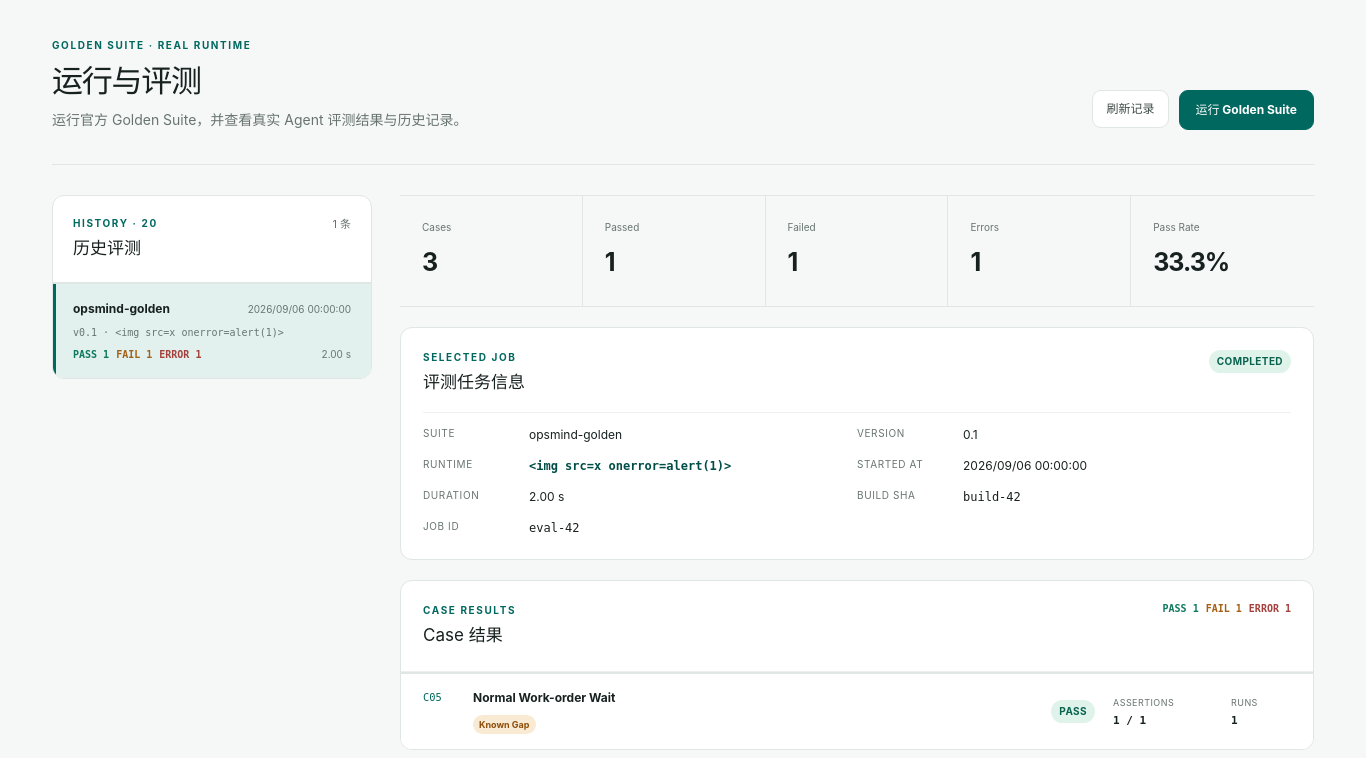
EvaluationPage › renders untrusted result text as text, not executable markup
Check: the text "<img src=x onerror=alert(1)>" is shown, box 529,459 -> 731,473
Click the button that starts with "C05" at coordinates (544, 697), box 401,673 -> 1313,749
(page scrolled)
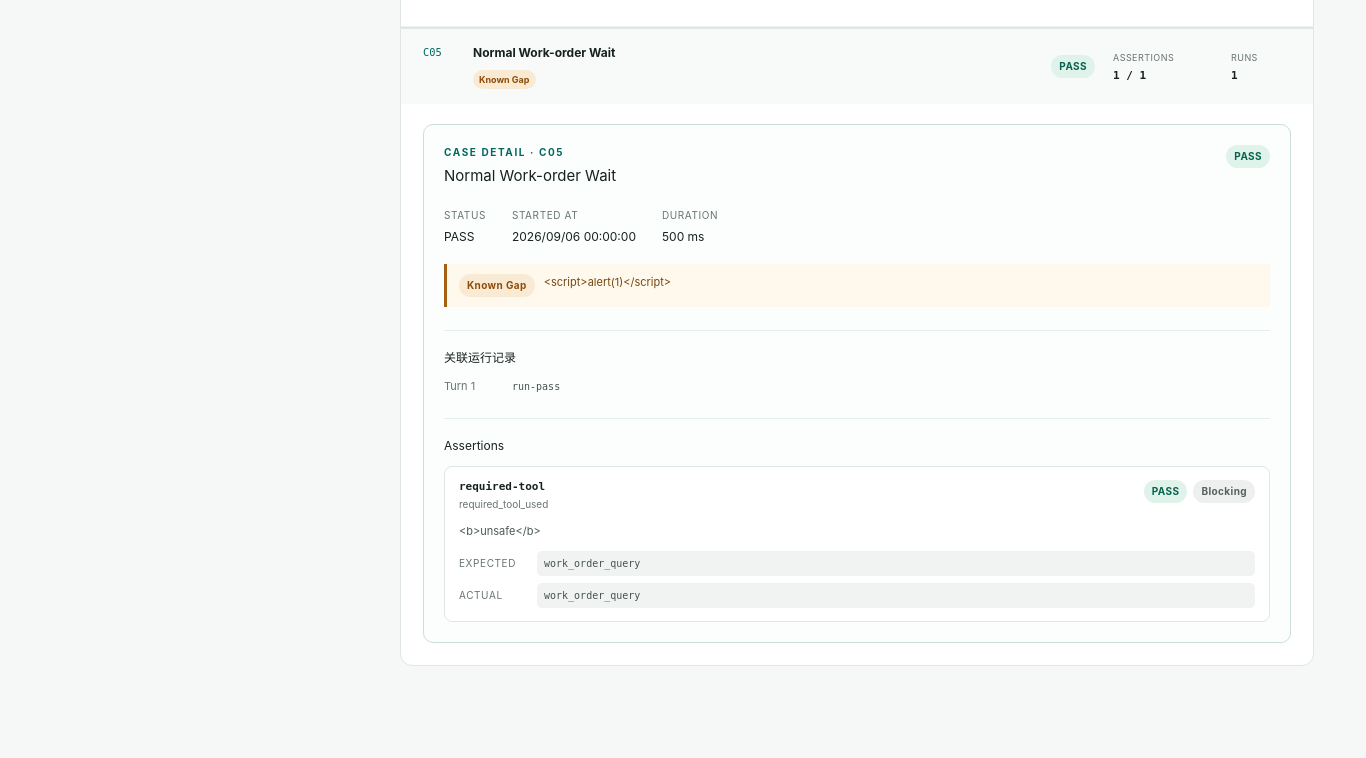
Check: the text "<b>unsafe</b>" is shown, box 459,524 -> 541,538
